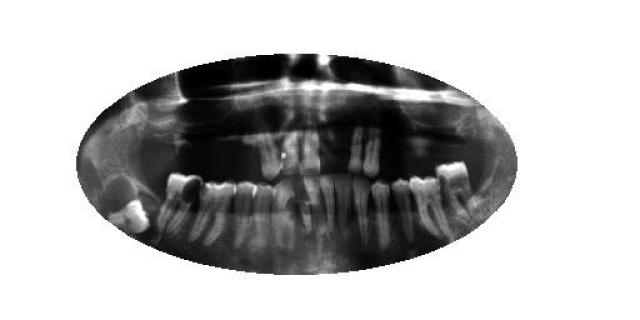Cavity: (189, 178, 236, 244), (158, 172, 204, 234)
Restorations: (109, 197, 151, 235)
